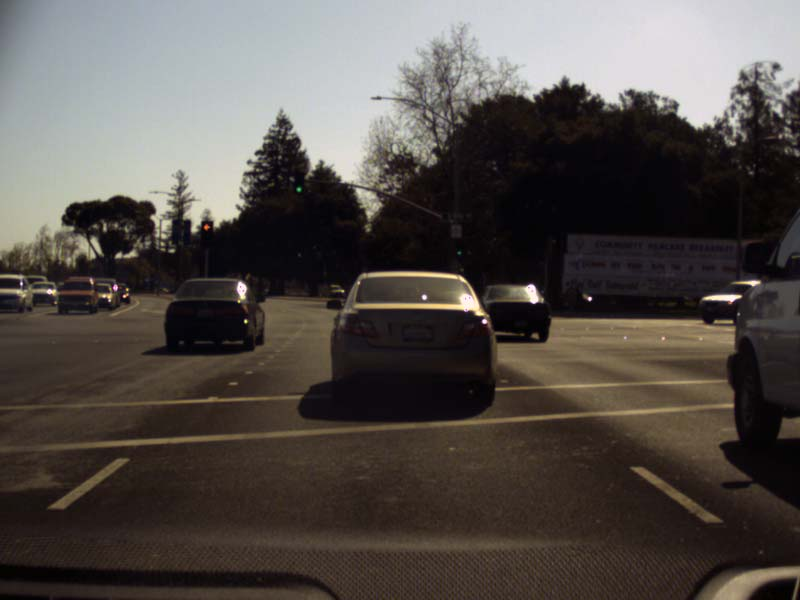Green: (294, 171, 302, 194), (455, 238, 463, 257)
Red: (202, 221, 212, 248)
